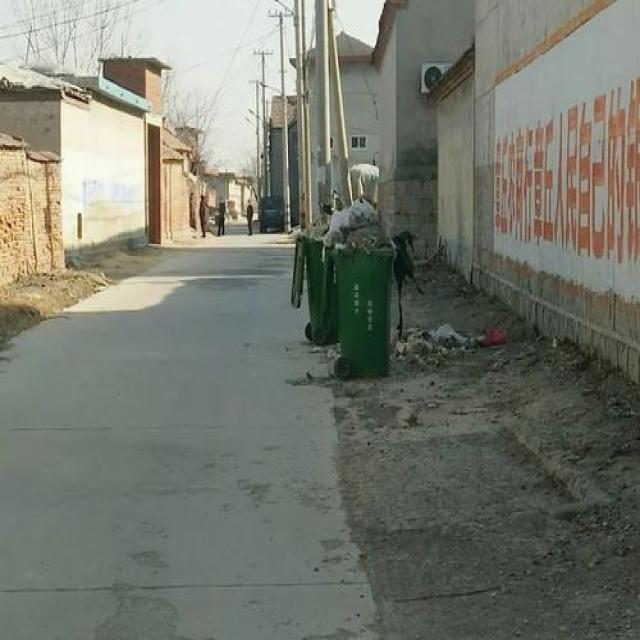garbage: (388, 321, 503, 360)
overflow: (320, 197, 392, 376), (290, 212, 336, 343)
